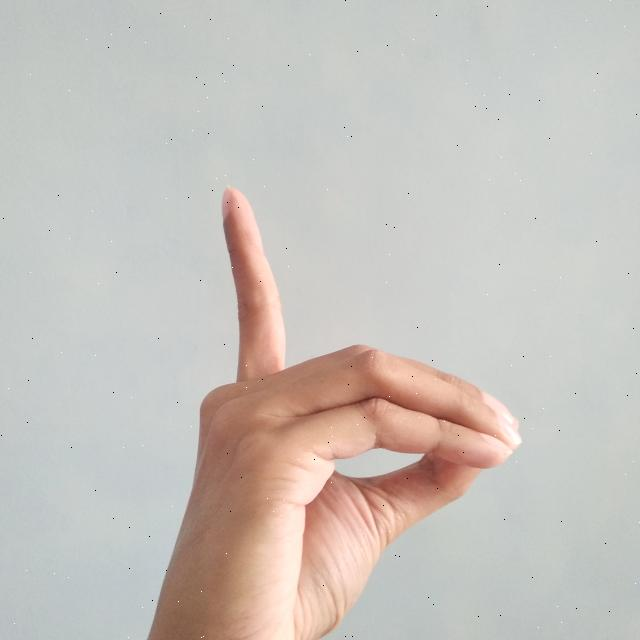D: (151, 186, 524, 640)
